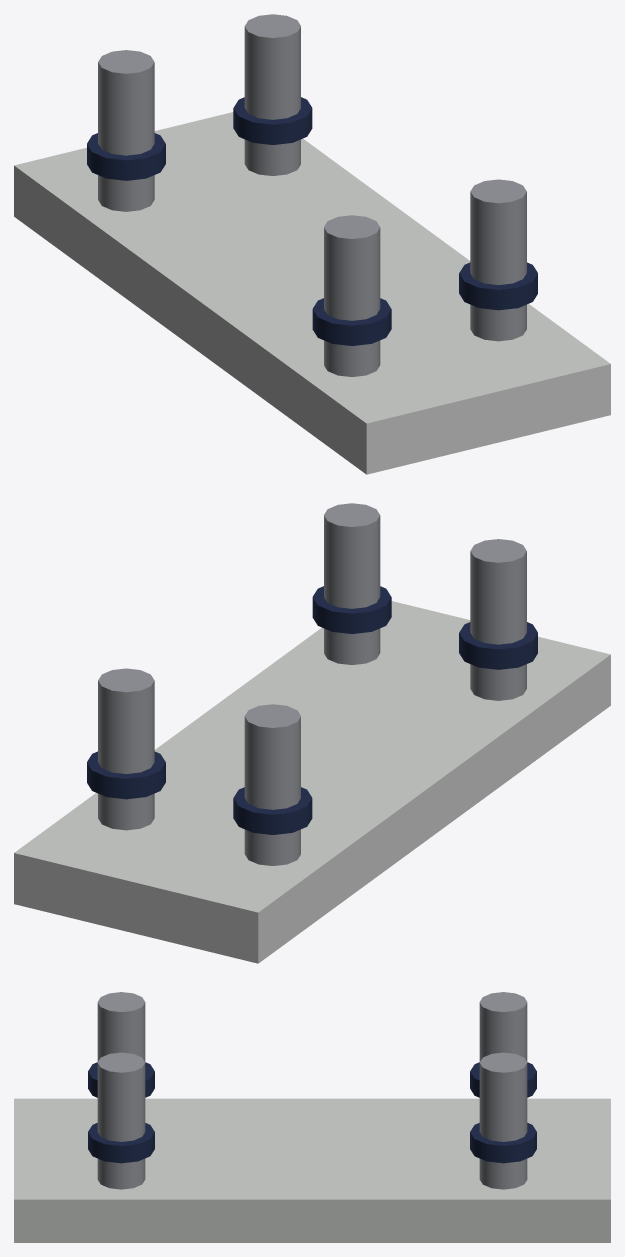
File: s60_heat_pipe_column.obj
3 renders of one model, top to bottom at view 1: azimuth 30°, elevation 25°; view 2: azimuth 150°, elevation 25°; view 3: azimuth 270°, elevation 25°, orthographic. The views are drawn at different scales.
Parts seen in each view (by area): view 1: s60_heat_pipe_column; view 2: s60_heat_pipe_column; view 3: s60_heat_pipe_column.
Part boxes in pixels (box(x1,y1,x2,y2)): s60_heat_pipe_column: box(14, 14, 610, 474); s60_heat_pipe_column: box(14, 503, 610, 963); s60_heat_pipe_column: box(14, 992, 610, 1242).
Bounding box in the file's own units: 0.3606 × 0.2668 × 0.9015.
